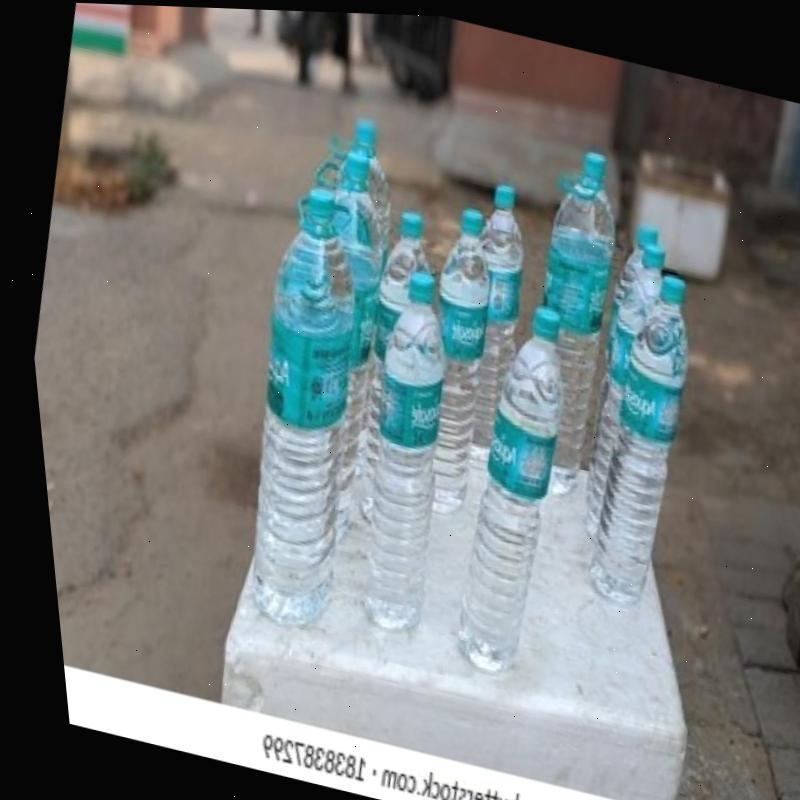botella: (197, 175, 403, 636), (409, 293, 594, 678), (312, 261, 477, 646), (258, 145, 418, 540), (547, 259, 717, 611), (486, 138, 647, 502), (319, 201, 458, 531), (548, 227, 691, 547), (377, 198, 519, 520), (551, 213, 678, 527), (423, 174, 550, 475), (297, 107, 406, 247)
